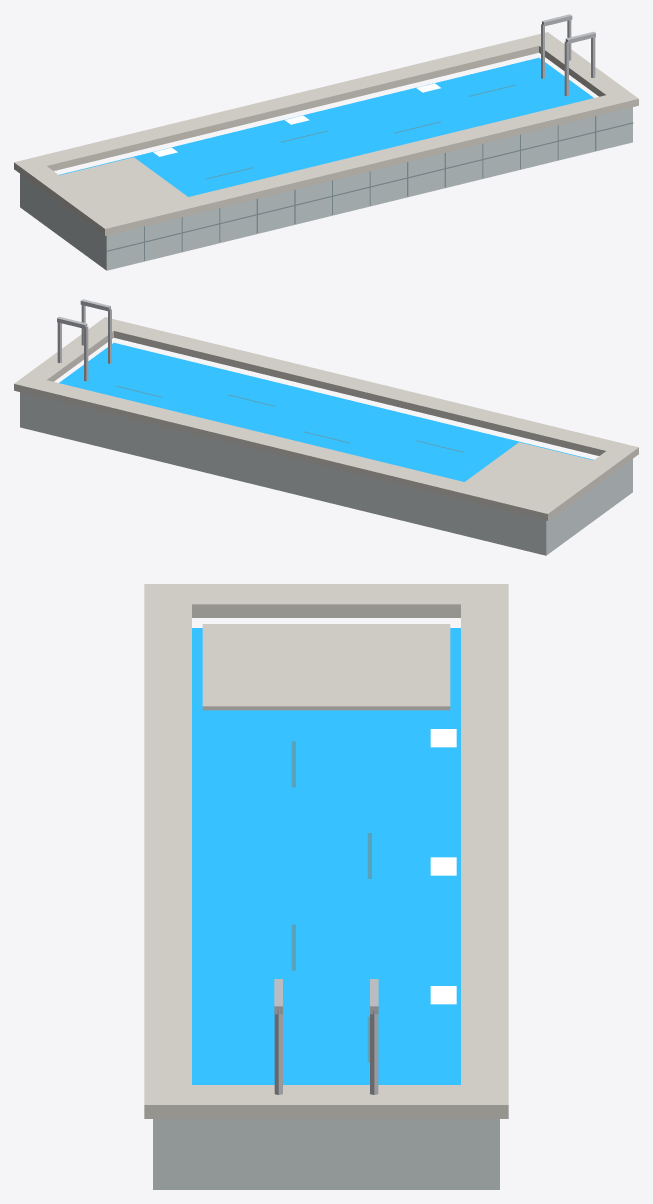
Rendered from pool_basin.glb.
3 views of the same model, one above another, from view 1: azimuth 30°, elevation 25°; view 2: azimuth 150°, elevation 25°; view 3: azimuth 270°, elevation 25° (orthographic). The views are drawn at different scales.
Parts seen in each view (by area): view 1: pool_basin; view 2: pool_basin; view 3: pool_basin.
Boxes of the visible parts, bbox=[...] form: pool_basin: bbox=[14, 14, 638, 270]; pool_basin: bbox=[14, 299, 638, 555]; pool_basin: bbox=[144, 584, 508, 1189].
Bounding box in the file's own units: 5.68 × 0.9 × 1.68.
